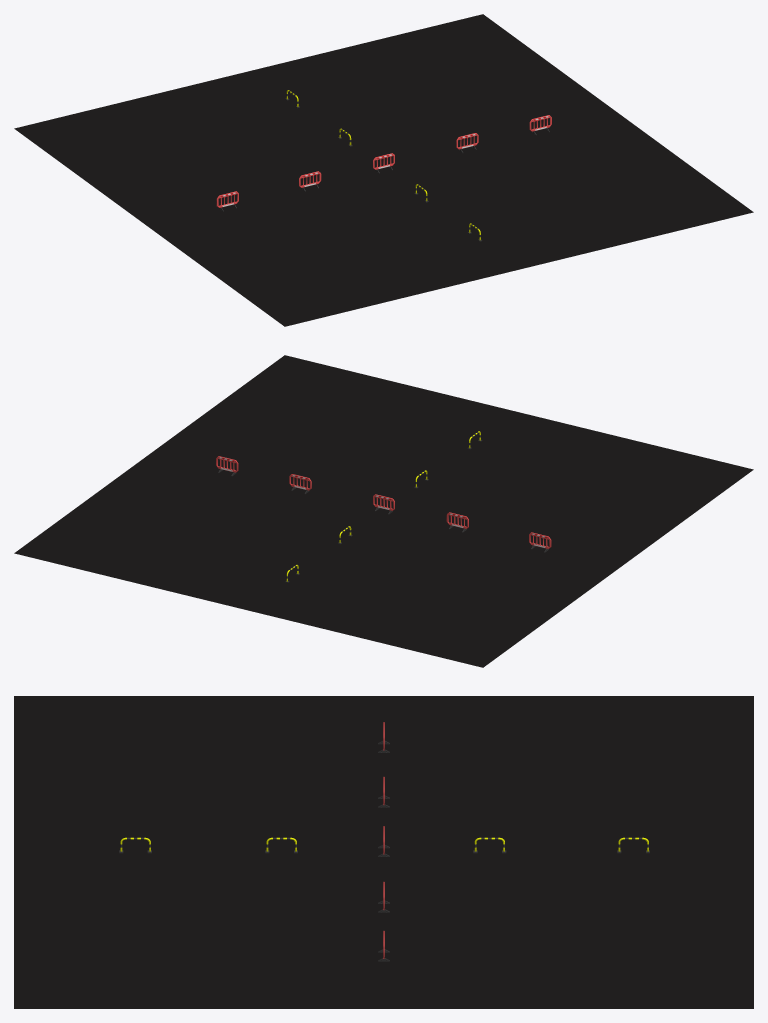
Rendered from Tile 9_Combined.fbx.
The picture shows the model from 3 angles, top to bottom: view 1: azimuth 30°, elevation 25°; view 2: azimuth 150°, elevation 25°; view 3: azimuth 270°, elevation 25°; orthographic projection. The views are drawn at different scales.
Visible parts, largest first — view 1: MeshBaker_Cluster_0_mesh_mesh; view 2: MeshBaker_Cluster_0_mesh_mesh; view 3: MeshBaker_Cluster_0_mesh_mesh.
Part boxes in pixels (left/top/right/bottom): MeshBaker_Cluster_0_mesh_mesh: left=14, top=14, right=753, bottom=326; MeshBaker_Cluster_0_mesh_mesh: left=14, top=355, right=753, bottom=667; MeshBaker_Cluster_0_mesh_mesh: left=14, top=696, right=753, bottom=1008.
Size of the model in its own units: 3000 by 92.66 by 3000.
